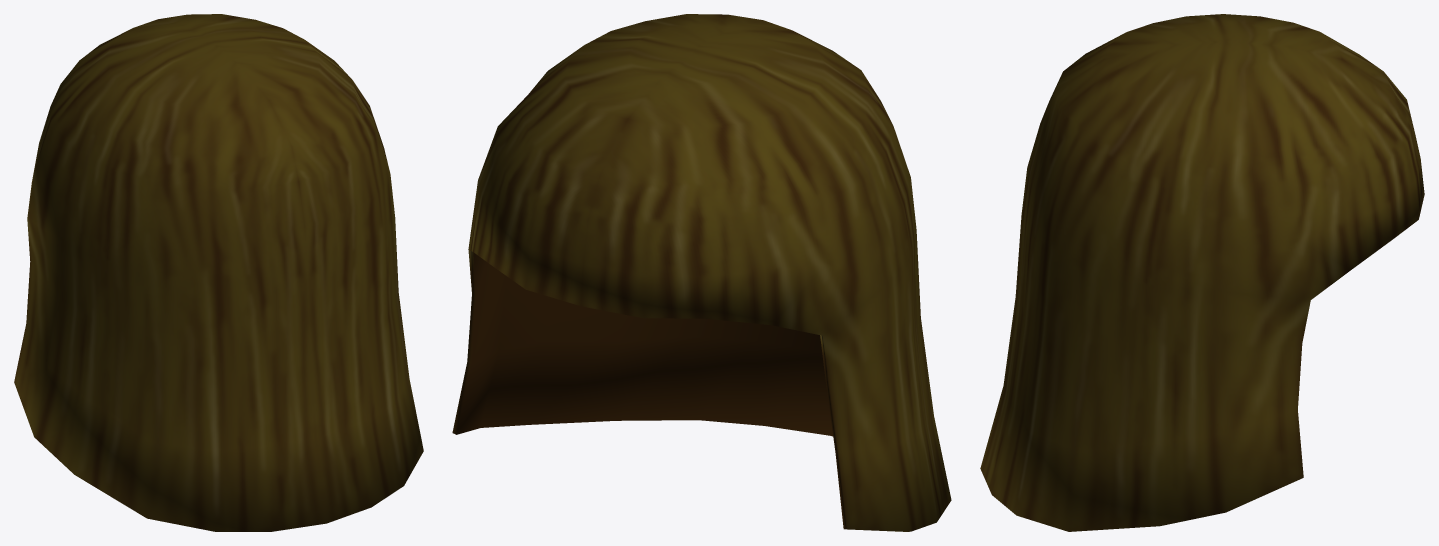
The picture shows the model from 3 angles, left to right: view 1: azimuth 30°, elevation 25°; view 2: azimuth 150°, elevation 25°; view 3: azimuth 270°, elevation 25°; orthographic projection. The views are drawn at different scales.
Parts seen in each view (by area): view 1: geometry_0; view 2: geometry_0; view 3: geometry_0.
Boxes of the visible parts, left/top/right/bottom form: geometry_0: left=14, top=14, right=423, bottom=531; geometry_0: left=452, top=14, right=951, bottom=531; geometry_0: left=980, top=14, right=1424, bottom=531.
Bounding box in the file's own units: 1.43 × 1.53 × 1.44.
1 material, 1 textured.
